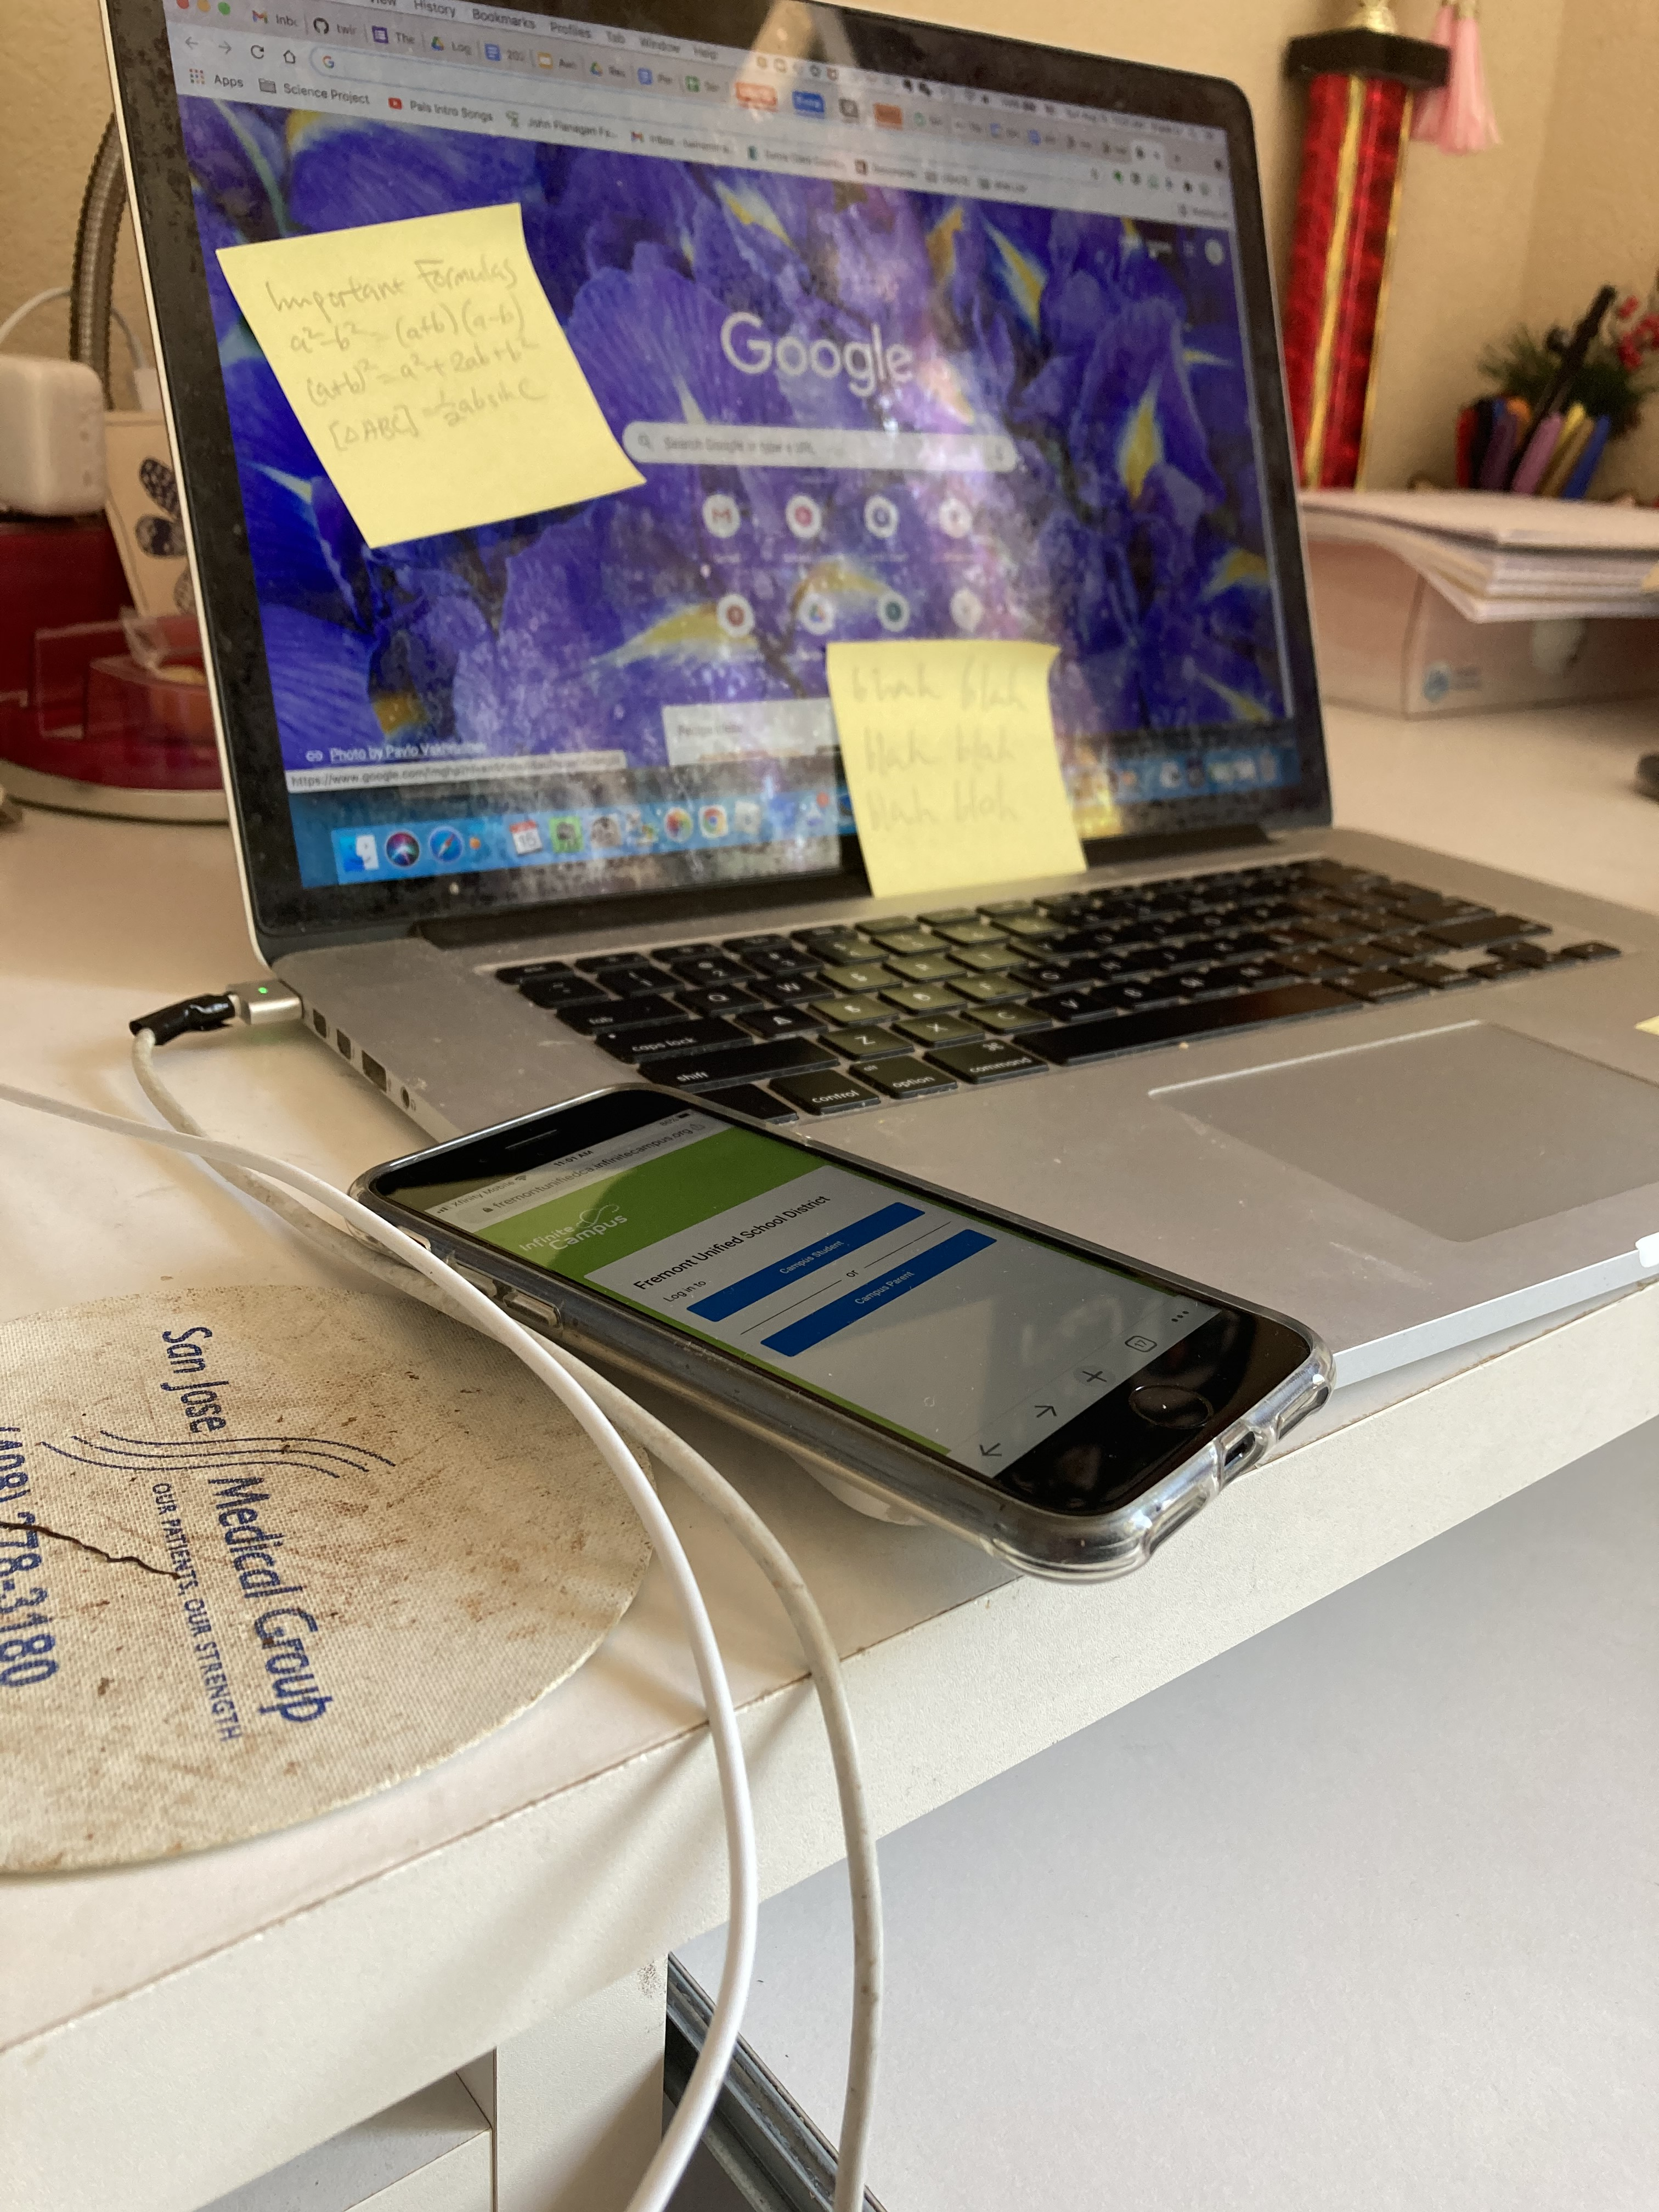Cell Phone: (354, 1089, 1337, 1569)
Note: (216, 183, 659, 566), (819, 637, 1098, 888)
